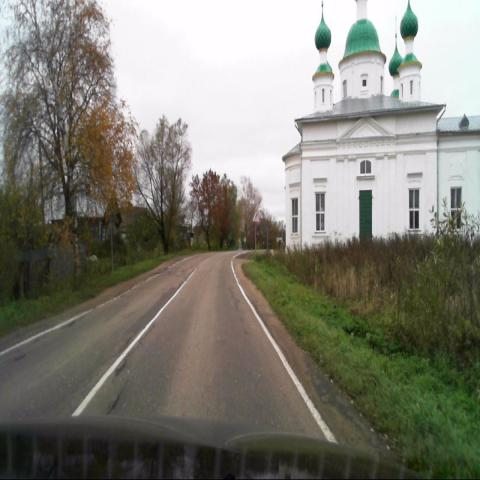1_22: (252, 209, 260, 223)
